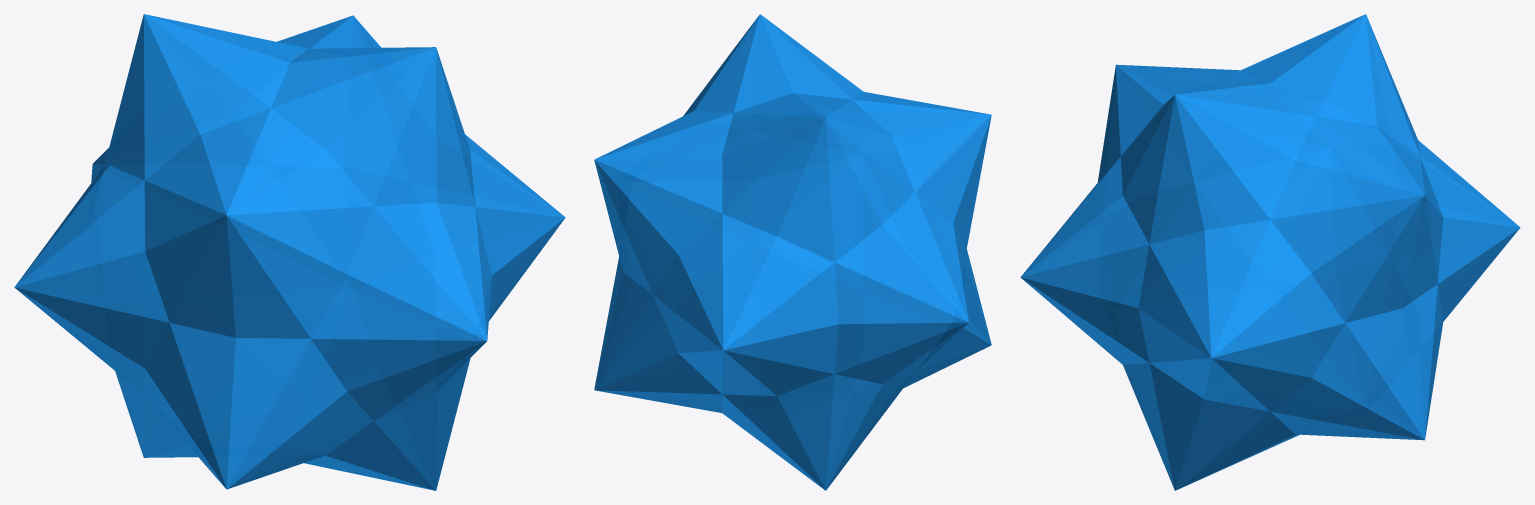
The model's file is fractalsmallrhombidodecacron0.glb.
3 views of the same model, side by side, from view 1: azimuth 30°, elevation 25°; view 2: azimuth 150°, elevation 25°; view 3: azimuth 270°, elevation 25° (orthographic). The views are drawn at different scales.
Size of the model in its own units: 11.24 by 9.82 by 11.24.
